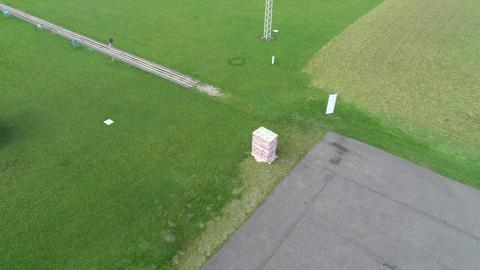RockwoolPallet: (251, 126, 279, 165)
